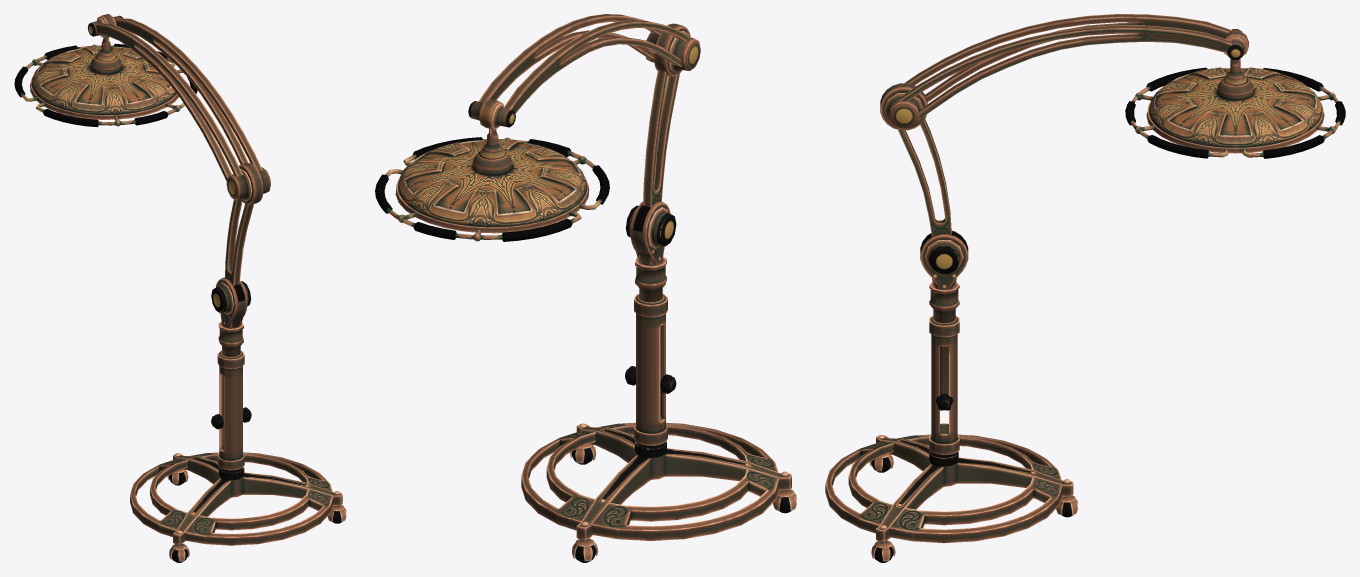
Rendered from Operating_Lamp.FBX.
The picture shows the model from 3 angles, left to right: view 1: azimuth 30°, elevation 25°; view 2: azimuth 150°, elevation 25°; view 3: azimuth 270°, elevation 25°; orthographic projection. The views are drawn at different scales.
Visible parts, largest first — view 1: 012, 013, 023, 11111, 026, 020, 028, 015, 017, 016, 027, 024 (+1 smaller); view 2: 012, 013, 023, 11111, 026, 020, 028, 017, 016, 027, 015, 018 (+2 smaller); view 3: 012, 013, 023, 11111, 020, 026, 017, 028, 016, 015, 027, 024.
Part boxes in pixels (box(x1,y1,x2,y2)): 012: box(130, 350, 333, 545); 013: box(30, 45, 178, 119); 023: box(95, 18, 262, 181); 11111: box(173, 453, 342, 544); 026: box(225, 199, 253, 285); 020: box(14, 43, 197, 127); 028: box(216, 277, 247, 416); 015: box(226, 167, 270, 201); 017: box(218, 321, 243, 417); 016: box(211, 281, 251, 315); 027: box(167, 418, 346, 561); 024: box(239, 163, 263, 204); 012: box(521, 293, 778, 540); 013: box(395, 139, 589, 233); 023: box(478, 14, 690, 113); 11111: box(576, 423, 791, 540); 026: box(643, 70, 679, 207); 020: box(375, 137, 609, 241); 028: box(630, 201, 670, 382); 017: box(635, 257, 666, 379); 016: box(625, 205, 676, 248); 027: box(570, 423, 796, 561); 015: box(646, 31, 700, 72); 018: box(385, 139, 602, 239); 012: box(825, 316, 1062, 543); 013: box(1146, 67, 1324, 153); 023: box(900, 14, 1232, 120); 11111: box(876, 435, 1073, 541); 020: box(1125, 67, 1345, 158); 026: box(898, 119, 951, 236); 017: box(929, 282, 959, 395); 028: box(920, 230, 968, 289); 016: box(925, 240, 963, 274); 015: box(884, 93, 922, 128); 027: box(869, 435, 1077, 561); 024: box(880, 83, 927, 130).
Size of the model in its own units: 107 by 247 by 235.
1 material, 1 textured.
